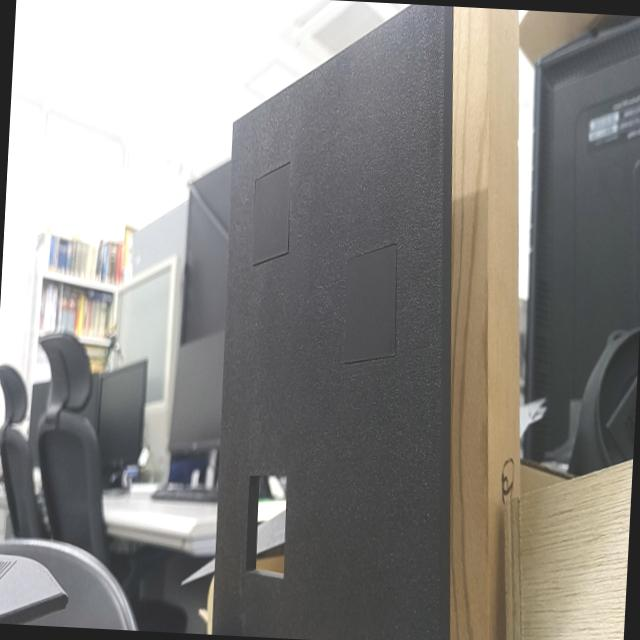Obstacle: (248, 476, 287, 576)
Wall: (212, 6, 443, 640)
